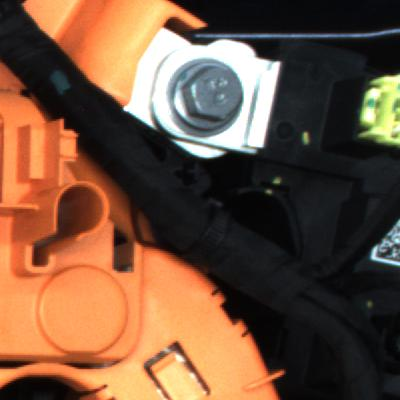nut_b: (157, 58, 256, 143)
